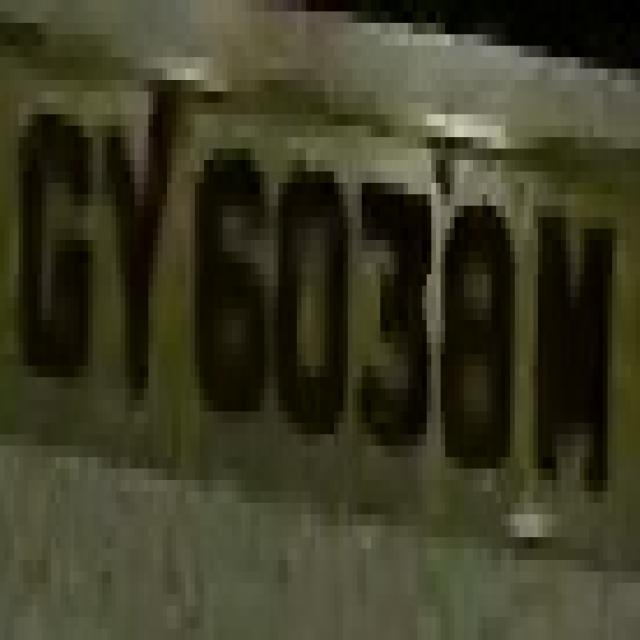0: (264, 148, 357, 492)
3: (348, 137, 427, 492)
6: (190, 103, 274, 468)
8: (417, 183, 524, 526)
G: (9, 57, 102, 457)
M: (515, 194, 635, 572)
Y: (97, 57, 181, 446)
